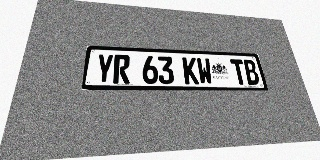3: (158, 56, 174, 84)
6: (142, 56, 158, 84)
B: (242, 60, 260, 85)
K: (182, 57, 199, 84)
R: (113, 54, 130, 84)
T: (230, 59, 248, 85)
W: (196, 58, 213, 84)
Y: (95, 54, 114, 84)
